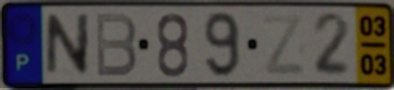2: (311, 10, 353, 79)
8: (155, 10, 190, 79)
9: (201, 10, 243, 80)
B: (93, 11, 139, 79)
N: (44, 11, 93, 79)
Z: (259, 12, 308, 78)
